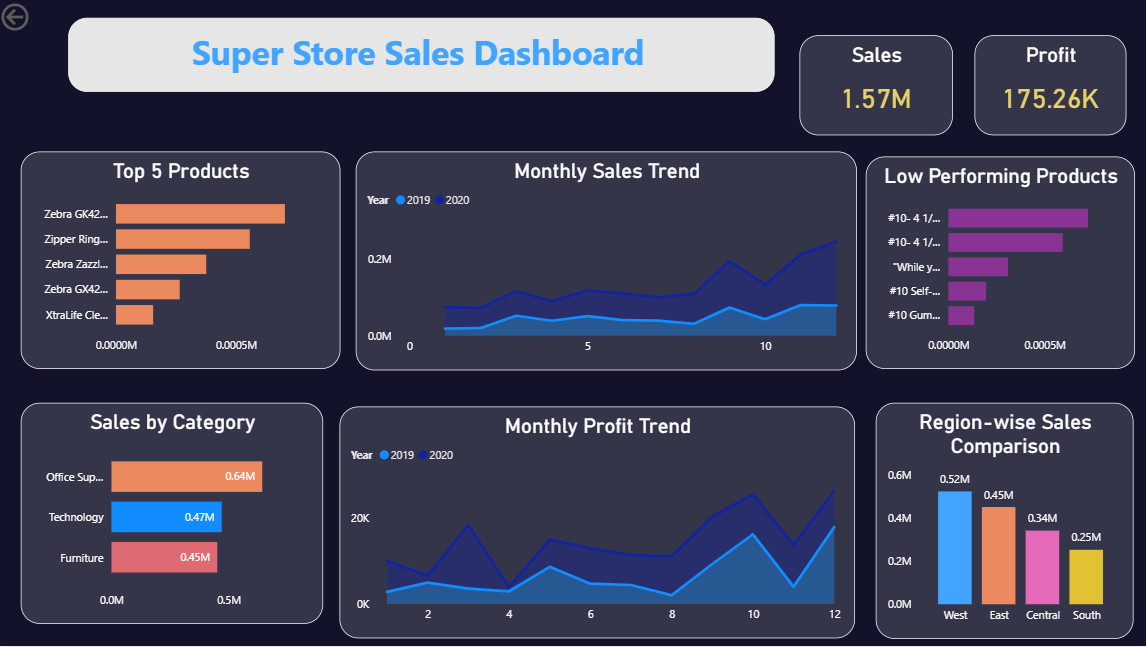

This screenshot's page, from the dashboard's own definition file:
{"tool":"powerbi","page":{"name":"Page 1","canvas":[1280,720],"ordinal":0},"visuals":[{"type":"clusteredBarChart","title":"Sales by Category","fields":{"Category":["SuperStore_Sales_Dataset.Category"],"Y":["Sum(SuperStore_Sales_Dataset.Sales)"]},"box":[26.1,448.7,336.2,245.6],"z":0},{"type":"card","title":"Sales ","fields":{"Values":["Sum(SuperStore_Sales_Dataset.Sales)"]},"box":[891.9,39.8,170.2,111.1],"z":1000},{"type":"card","title":"Profit","fields":{"Values":["Sum(SuperStore_Sales_Dataset.Profit)"]},"box":[1085.4,39.8,168.8,111.1],"z":2000},{"type":"stackedAreaChart","title":"Monthly Sales Trend","fields":{"Category":["SuperStore_Sales_Dataset.Month"],"Series":["SuperStore_Sales_Dataset.Year"],"Y":["Sum(SuperStore_Sales_Dataset.Sales)"]},"box":[397.9,168.8,557.1,242.9],"z":3000},{"type":"stackedAreaChart","title":"Monthly Profit Trend","fields":{"Category":["SuperStore_Sales_Dataset.Month"],"Series":["SuperStore_Sales_Dataset.Year"],"Y":["Sum(SuperStore_Sales_Dataset.Profit)"]},"box":[381,452.4,572.9,257.7],"z":4000},{"type":"clusteredColumnChart","title":"Region-wise Sales Comparison","fields":{"Category":["SuperStore_Sales_Dataset.Region"],"Y":["Sum(SuperStore_Sales_Dataset.Sales)"]},"box":[977,448.7,286.8,262.1],"z":5000},{"type":"barChart","title":"Top 5 Products","fields":{"Category":["SuperStore_Sales_Dataset.Product Name"],"Y":["Sum(SuperStore_Sales_Dataset.Sales)"]},"box":[26.1,168.8,355.4,241.5],"z":7000},{"type":"actionButton","box":[0,0,100,40],"z":8000},{"type":"barChart","title":"Low Performing Products","fields":{"Category":["SuperStore_Sales_Dataset.Product Name"],"Y":["Sum(SuperStore_Sales_Dataset.Sales)"]},"box":[964.7,175.6,299.1,236],"z":9000},{"type":"textbox","box":[79.6,20.6,784.9,82.3],"z":10000}]}

Visuals, with their boxes in screenshot pixels (x1, y1, x2, y2), scaled from the page's 1280x720 canvas onto the 1146x647 screenshot:
"Sales by Category" clusteredBarChart: 23, 403, 324, 624
"Sales " card: 799, 36, 951, 136
"Profit" card: 972, 36, 1123, 136
"Monthly Sales Trend" stackedAreaChart: 356, 152, 855, 370
"Monthly Profit Trend" stackedAreaChart: 341, 407, 854, 638
"Region-wise Sales Comparison" clusteredColumnChart: 875, 403, 1131, 639
"Top 5 Products" barChart: 23, 152, 342, 369
actionButton: 0, 0, 90, 36
"Low Performing Products" barChart: 864, 158, 1131, 370
textbox: 71, 19, 774, 92
